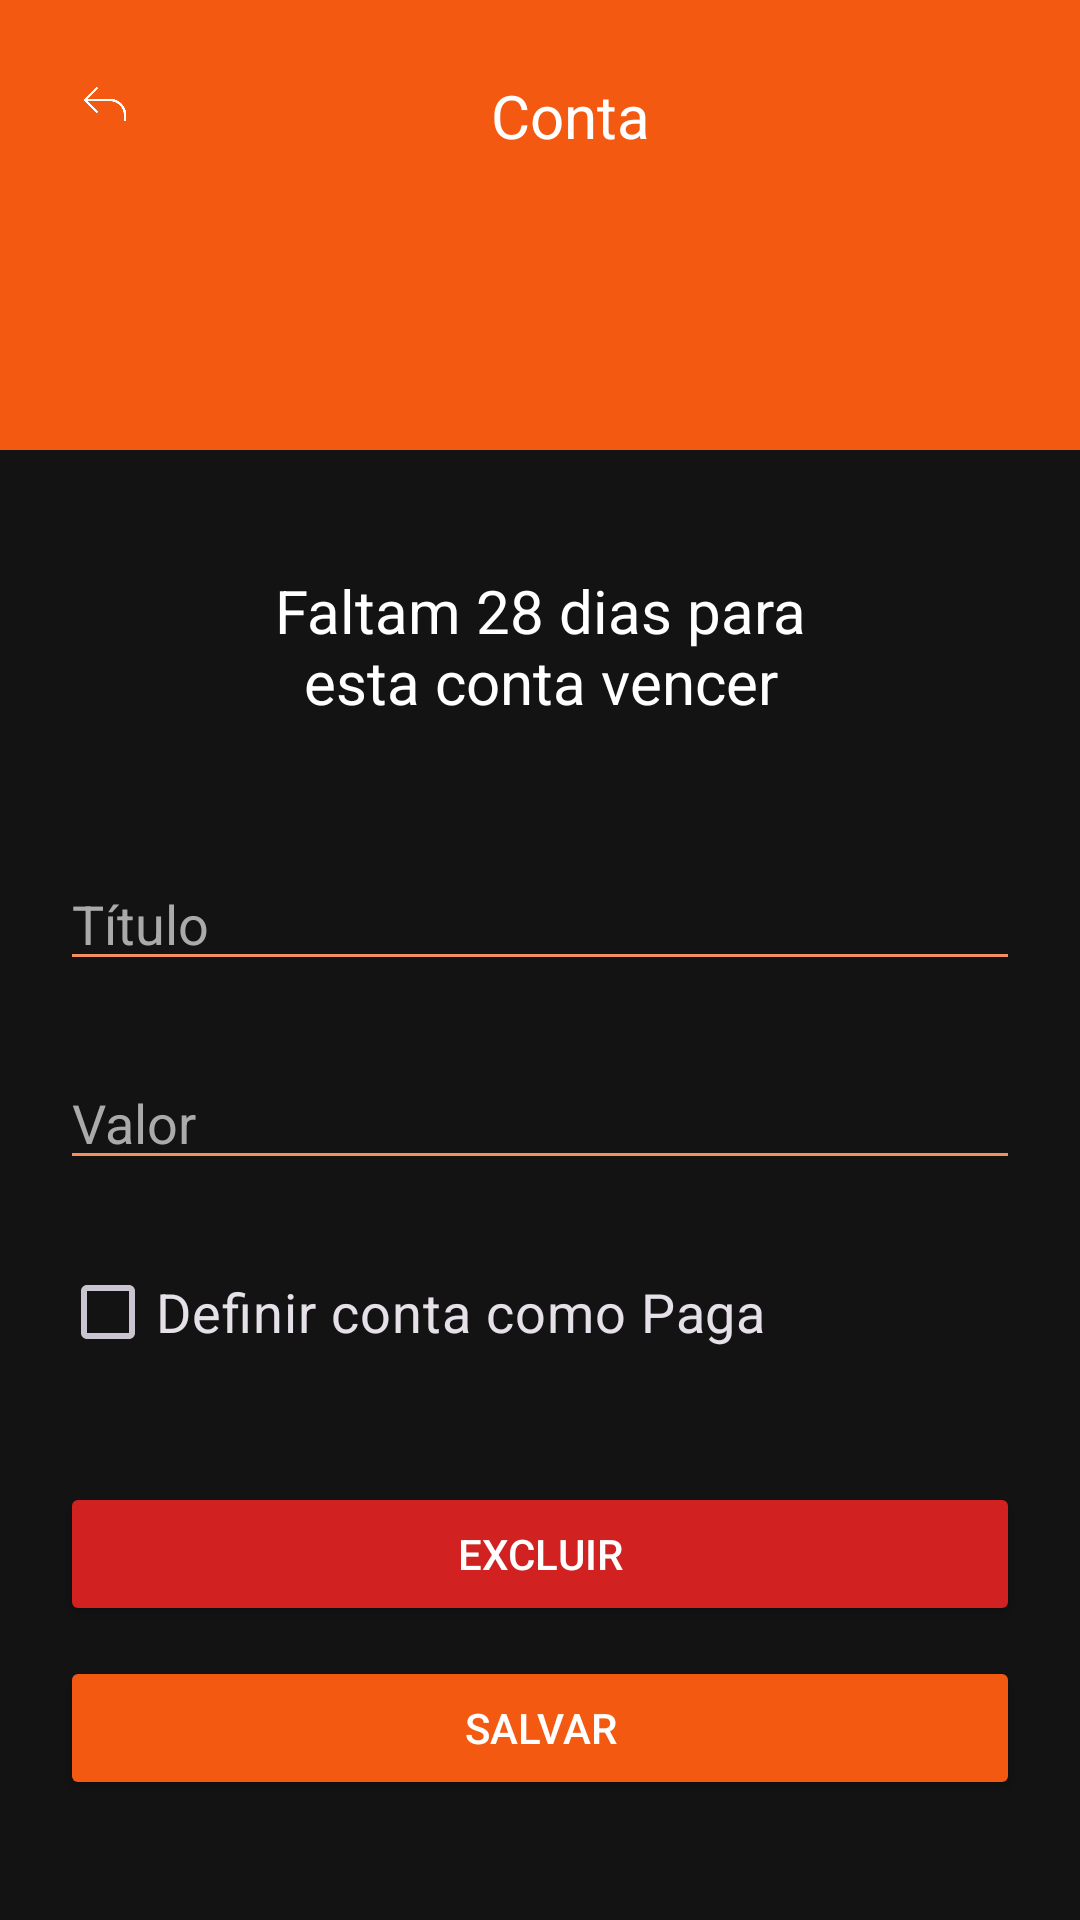

Locate icon controls on the screen. Image size 1080×1920, boxes as detection(x1, y1, x2, y2).
back: detection(84, 87, 126, 121)
